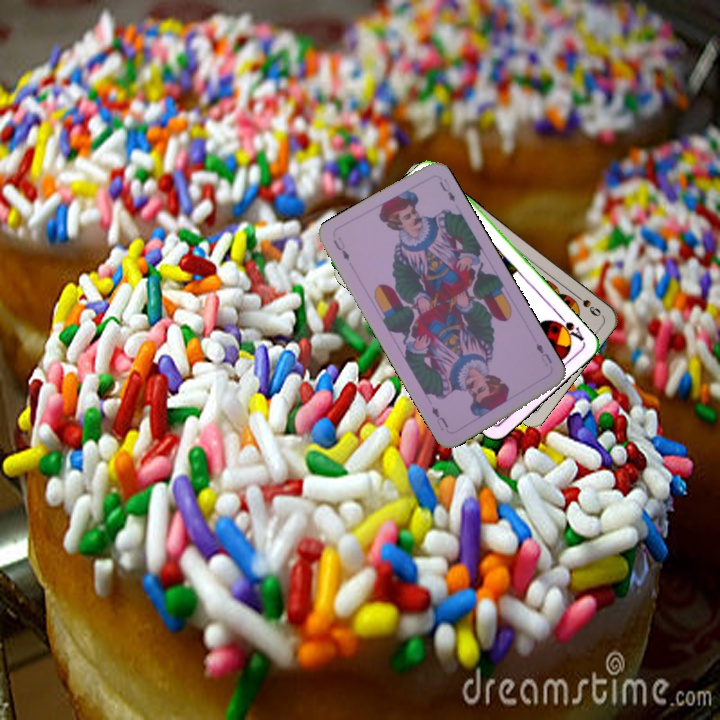EU: (329, 233, 352, 264), (532, 339, 555, 369)
S9: (570, 289, 604, 319)
SA: (550, 311, 587, 344)
